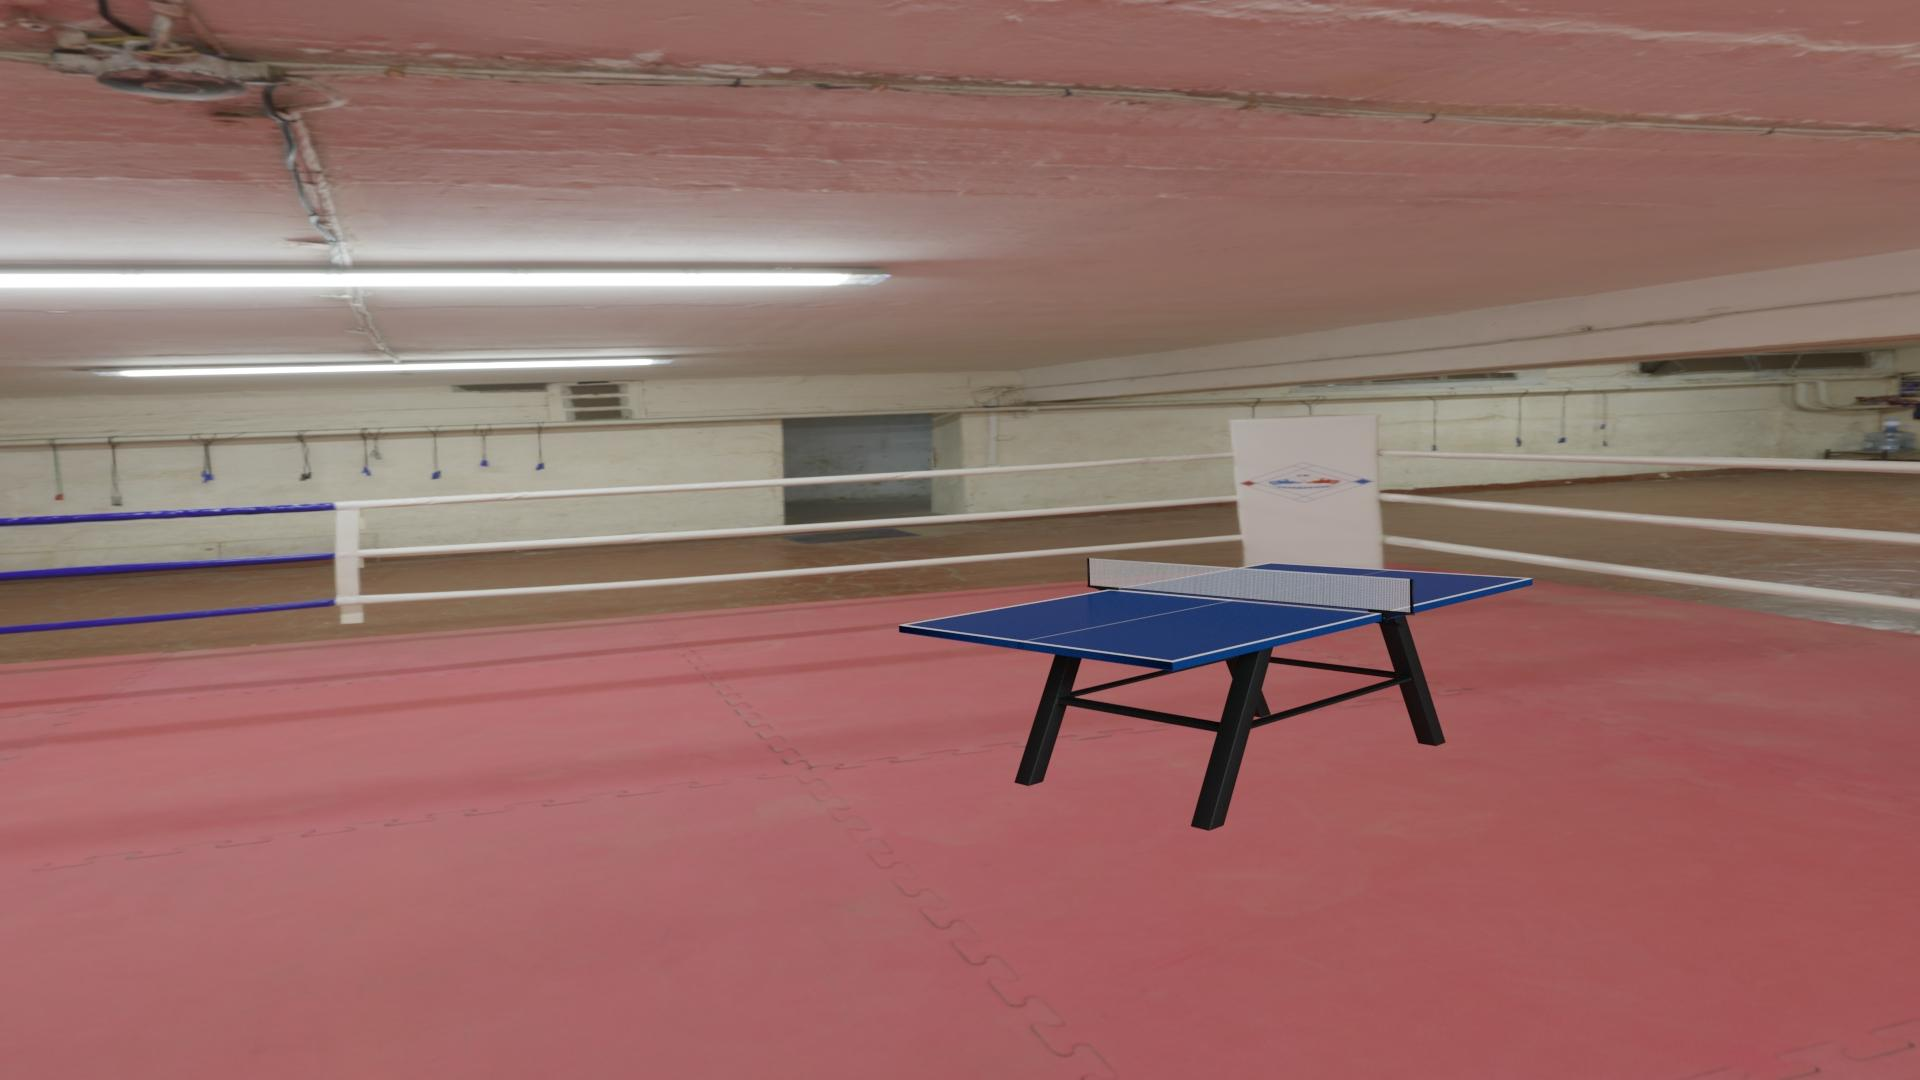table: (905, 563, 1527, 661)
